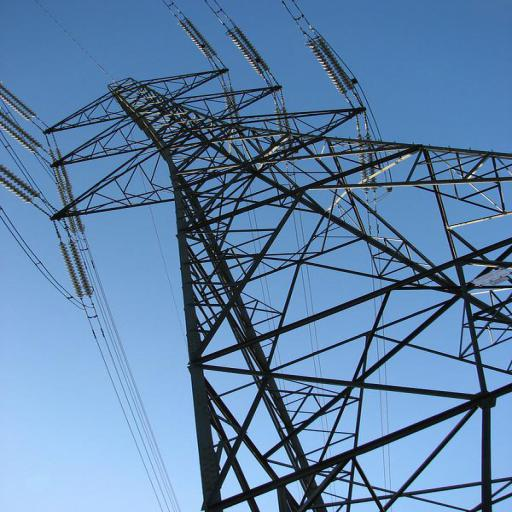ss_3: (39, 65, 511, 511)
